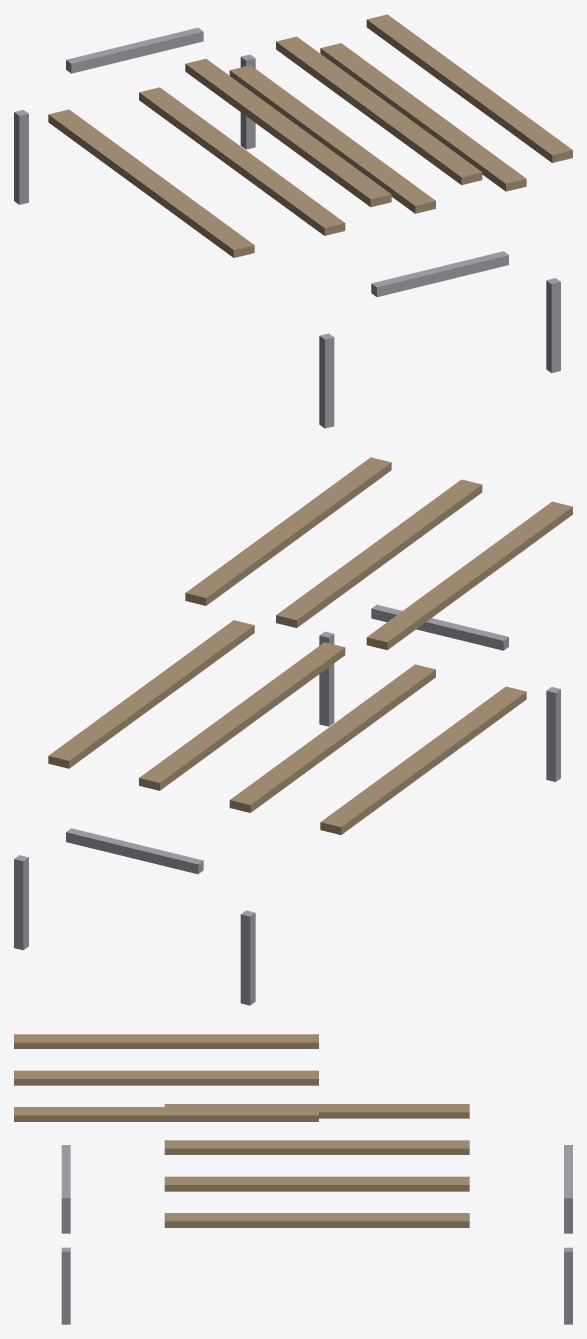
The model's file is bench.glb.
3 views of the same model, one above another, from view 1: azimuth 30°, elevation 25°; view 2: azimuth 150°, elevation 25°; view 3: azimuth 270°, elevation 25° (orthographic). The views are drawn at different scales.
Visible parts, largest first — view 1: Prop; view 2: Prop; view 3: Prop.
Part boxes in pixels (box(x1,y1,x2,y2)): Prop: box(14, 14, 572, 428); Prop: box(14, 457, 572, 1005); Prop: box(14, 1034, 572, 1324).
Bounding box in the file's own units: 0.775 × 0.6225 × 1.56.
